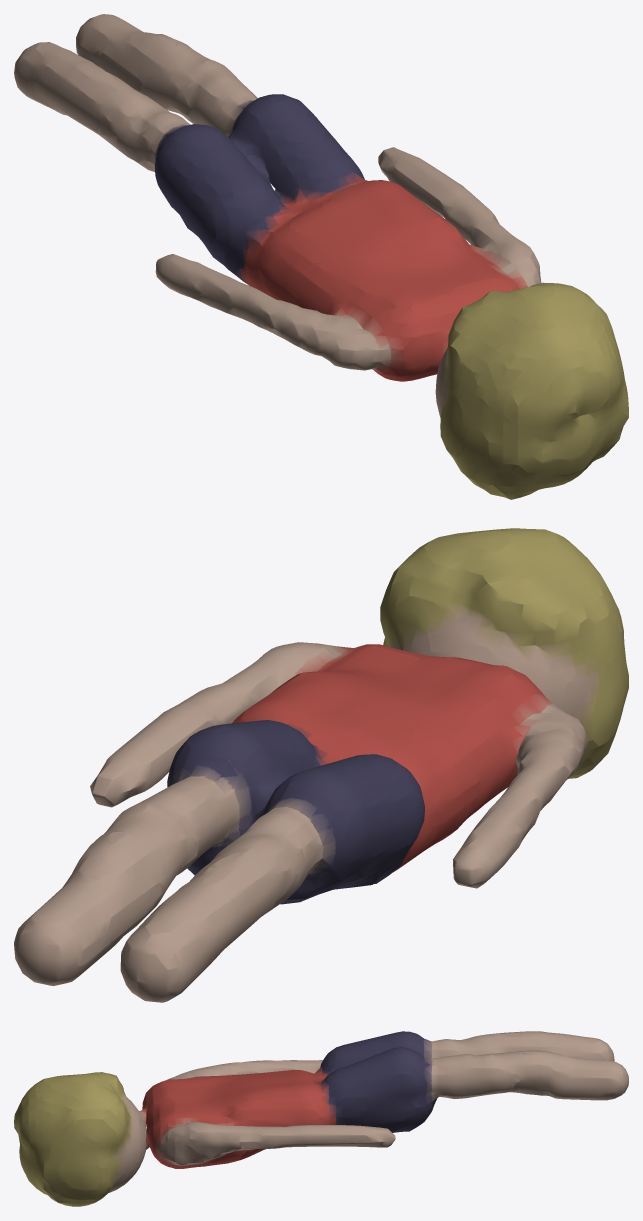
File: ken.gltf
3 renders of one model, top to bottom at view 1: azimuth 30°, elevation 25°; view 2: azimuth 150°, elevation 25°; view 3: azimuth 270°, elevation 25°, orthographic. The views are drawn at different scales.
Parts seen in each view (by area): view 1: Layer_1; view 2: Layer_1; view 3: Layer_1.
Boxes of the visible parts, <box> form: Layer_1: <box>14,14,628,499</box>; Layer_1: <box>14,528,628,1002</box>; Layer_1: <box>14,1031,628,1206</box>.
Bounding box in the file's own units: 22.75 × 16.12 × 63.01.
Materials: 1 (1 with a texture image).
